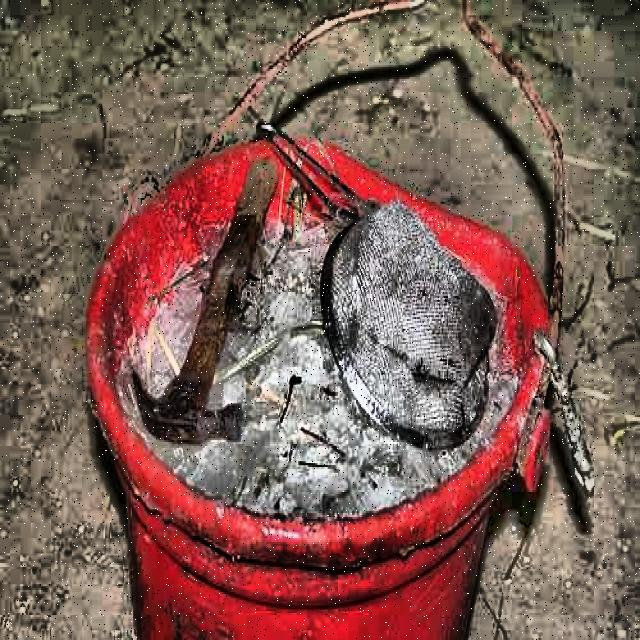hammer: (134, 154, 290, 446)
